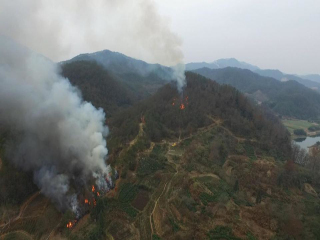smoke: (1, 11, 188, 217)
